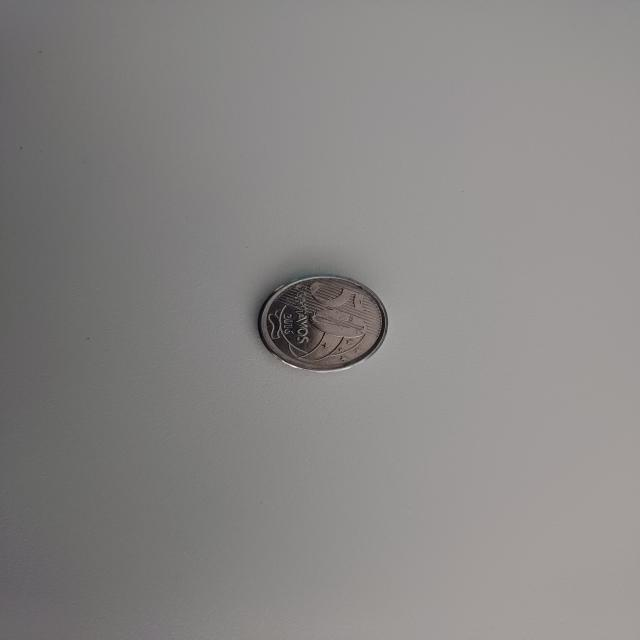50 cents: (261, 275, 391, 370)
